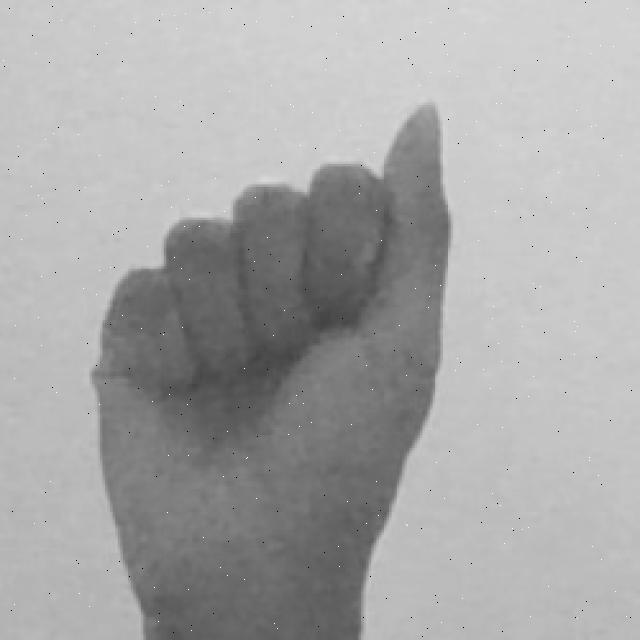A: (84, 96, 458, 640)
